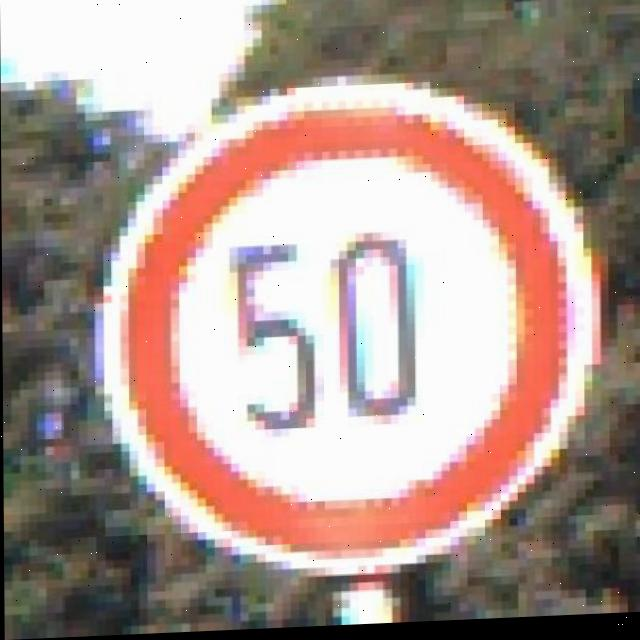Speed limit 50: (108, 75, 606, 585)
